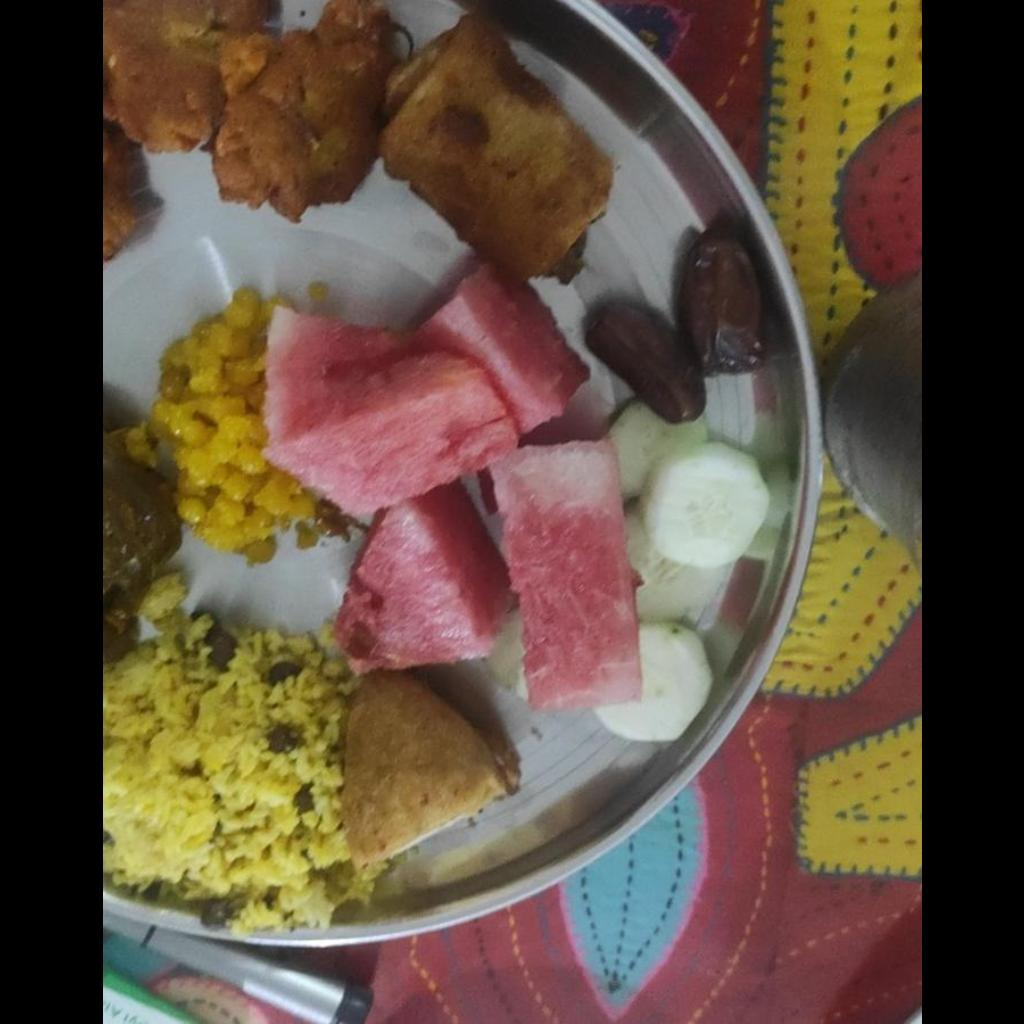burinda: (139, 295, 349, 562)
chop-alu: (384, 12, 625, 281)
cucumber: (600, 404, 771, 741)
dates: (586, 243, 762, 423)
khichuri: (107, 575, 369, 921)
peyaju: (102, 1, 377, 264)
watermelon: (264, 269, 643, 711)
